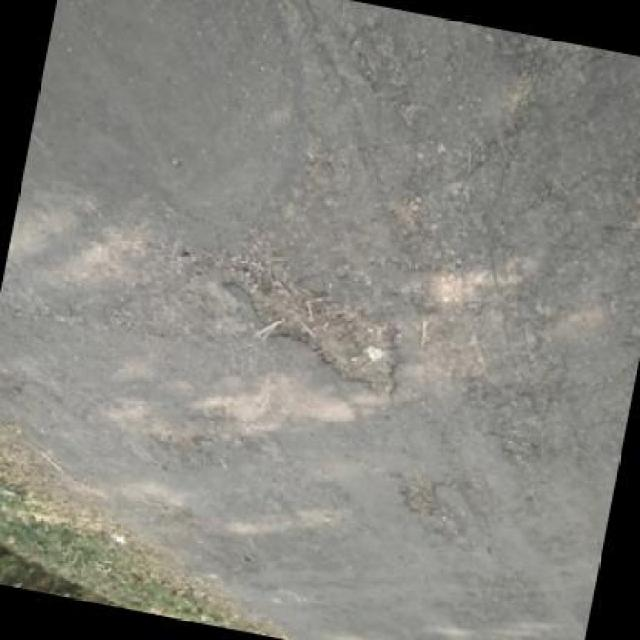pothole: (189, 248, 417, 404), (388, 470, 469, 541), (0, 369, 26, 400)
